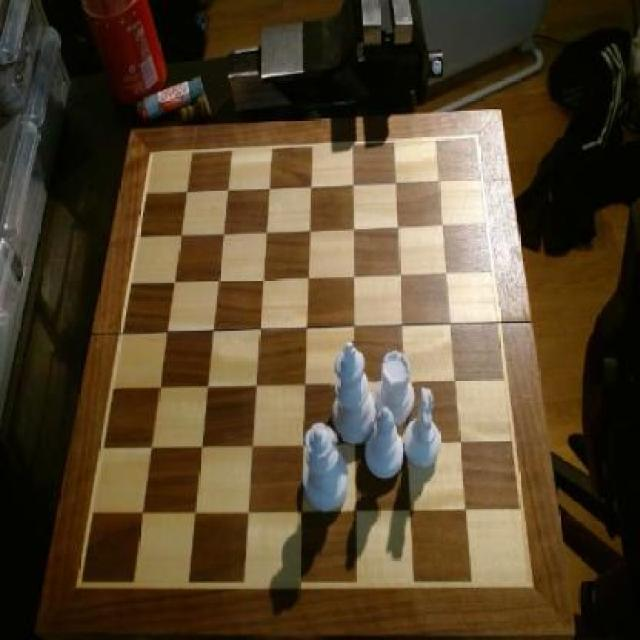black-rook: (364, 406, 404, 482)
white-bishop: (332, 340, 378, 442)
white-king: (404, 384, 444, 472)
white-pawn: (302, 420, 351, 512)
white-queen: (376, 349, 414, 428)
